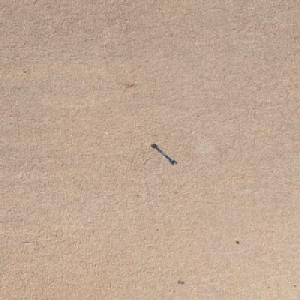Wrench: (149, 143, 177, 164)
